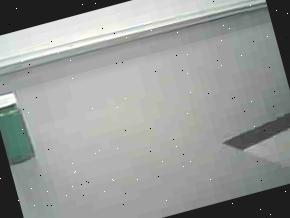Bottle C: (0, 82, 47, 171)
